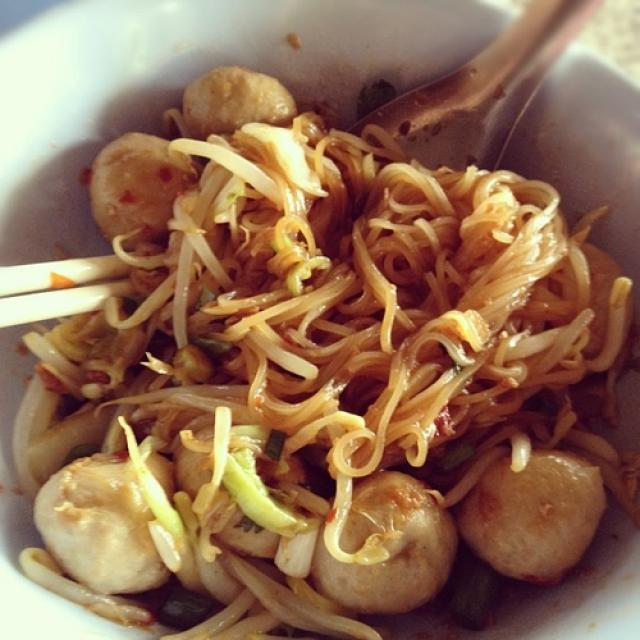面条主食: (40, 55, 617, 611)
